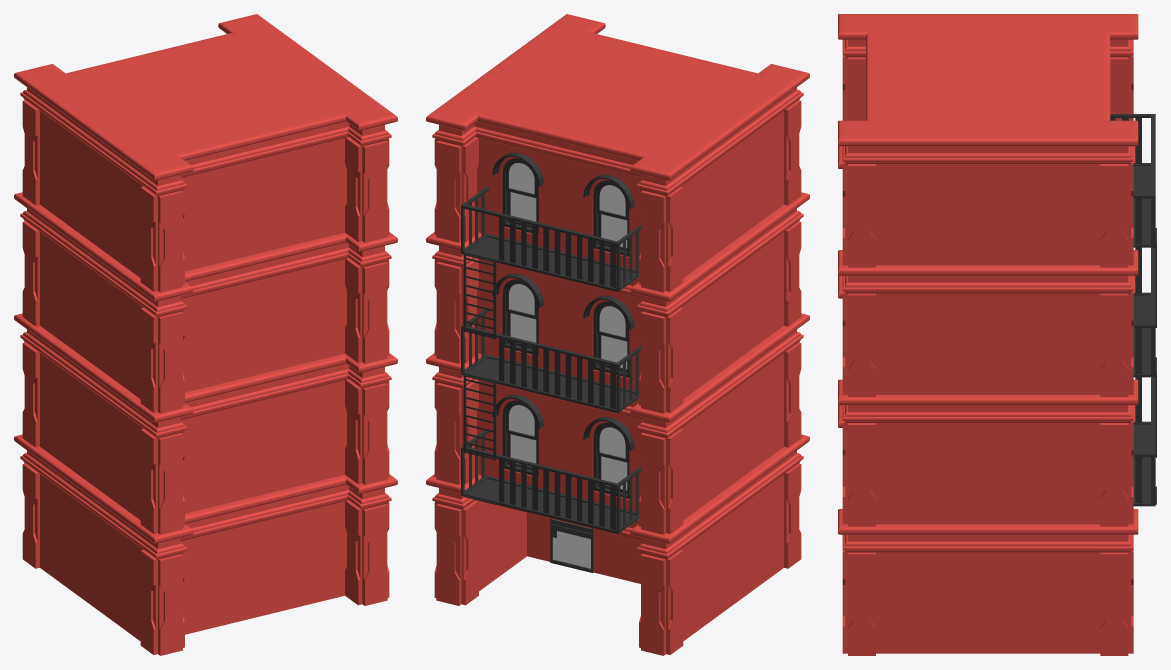
Rendered from Prop_Building_5.fbx.
The picture shows the model from 3 angles, left to right: view 1: azimuth 30°, elevation 25°; view 2: azimuth 150°, elevation 25°; view 3: azimuth 270°, elevation 25°; orthographic projection. The views are drawn at different scales.
Visible parts, largest first — view 1: Cornice_LightGray_V2.196, BrickWallLight_Window_V1_1.246, BrickWallLight_Window_V1_1.239, BrickWallLight_Window_V1_1.252, Metal_Panel_V1_3.136, Metal_Panel_V1_3.135, BrickWallLight_Window_V1_1.253, BrickWallLight_Window_V1_1.240, BrickWallLight_Window_V1_1.247, BrickWallLight_Window_V1_1.248, BrickWallLight_Window_V1_1.254, BrickWallLight_Window_V1_1.242 (+35 smaller); view 2: Cornice_LightGray_V2.196, Plane.003, Plane.008, Plane.012, BrickWallLight_Window_V2_2.012, BrickWallLight_Window_V2_2.010, BrickWallLight_Window_V2_2.008, BrickWallLight_Window_V2_2.011, BrickWallLight_Window_V2_2.013, BrickWallLight_Window_V2_2.009, BrickWallLight_Window_V1_1.249, BrickWallLight_Window_V1_1.255 (+35 smaller); view 3: Cornice_LightGray_V2.196, BrickWallLight_Window_V1_1.202, BrickWallLight_Window_V1_1.236, BrickWallLight_Window_V1_1.244, BrickWallLight_Window_V1_1.245, BrickWallLight_Window_V1_1.250, BrickWallLight_Window_V1_1.251, Metal_Panel_V1_3.138, Metal_Panel_V1_3.139, Metal_Panel_V1_3.130, Metal_Panel_V1_3.144, Metal_Panel_V1_3.149 (+22 smaller).
Boxes of the visible parts, <box> form: Cornice_LightGray_V2.196: <box>14,14,397,196</box>; BrickWallLight_Window_V1_1.246: <box>258,259,346,374</box>; BrickWallLight_Window_V1_1.239: <box>258,380,346,495</box>; BrickWallLight_Window_V1_1.252: <box>258,138,346,253</box>; Metal_Panel_V1_3.136: <box>258,501,346,616</box>; Metal_Panel_V1_3.135: <box>180,522,258,634</box>; BrickWallLight_Window_V1_1.253: <box>180,159,258,271</box>; BrickWallLight_Window_V1_1.240: <box>180,401,258,513</box>; BrickWallLight_Window_V1_1.247: <box>180,280,258,392</box>; BrickWallLight_Window_V1_1.248: <box>40,232,92,363</box>; BrickWallLight_Window_V1_1.254: <box>40,111,92,242</box>; BrickWallLight_Window_V1_1.242: <box>40,353,92,484</box>; Cornice_LightGray_V2.196: <box>426,14,809,196</box>; Plane.003: <box>461,187,640,339</box>; Plane.008: <box>461,309,640,460</box>; Plane.012: <box>461,430,640,533</box>; BrickWallLight_Window_V2_2.012: <box>477,138,565,252</box>; BrickWallLight_Window_V2_2.010: <box>477,259,565,373</box>; BrickWallLight_Window_V2_2.008: <box>477,380,565,494</box>; BrickWallLight_Window_V2_2.011: <box>565,280,643,391</box>; BrickWallLight_Window_V2_2.013: <box>565,159,643,270</box>; BrickWallLight_Window_V2_2.009: <box>565,401,643,511</box>; BrickWallLight_Window_V1_1.249: <box>731,232,783,363</box>; BrickWallLight_Window_V1_1.255: <box>731,111,783,242</box>; Cornice_LightGray_V2.196: <box>838,14,1138,163</box>; BrickWallLight_Window_V1_1.202: <box>876,423,988,524</box>; BrickWallLight_Window_V1_1.236: <box>988,423,1100,524</box>; BrickWallLight_Window_V1_1.244: <box>876,293,988,394</box>; BrickWallLight_Window_V1_1.245: <box>988,293,1100,394</box>; BrickWallLight_Window_V1_1.250: <box>876,164,988,265</box>; BrickWallLight_Window_V1_1.251: <box>988,164,1100,265</box>; Metal_Panel_V1_3.138: <box>876,552,988,653</box>; Metal_Panel_V1_3.139: <box>988,552,1100,653</box>; Metal_Panel_V1_3.130: <box>1100,550,1133,655</box>; Metal_Panel_V1_3.144: <box>1100,421,1133,526</box>; Metal_Panel_V1_3.149: <box>1100,291,1133,396</box>.
Size of the model in its own units: 536 by 1019 by 569.
